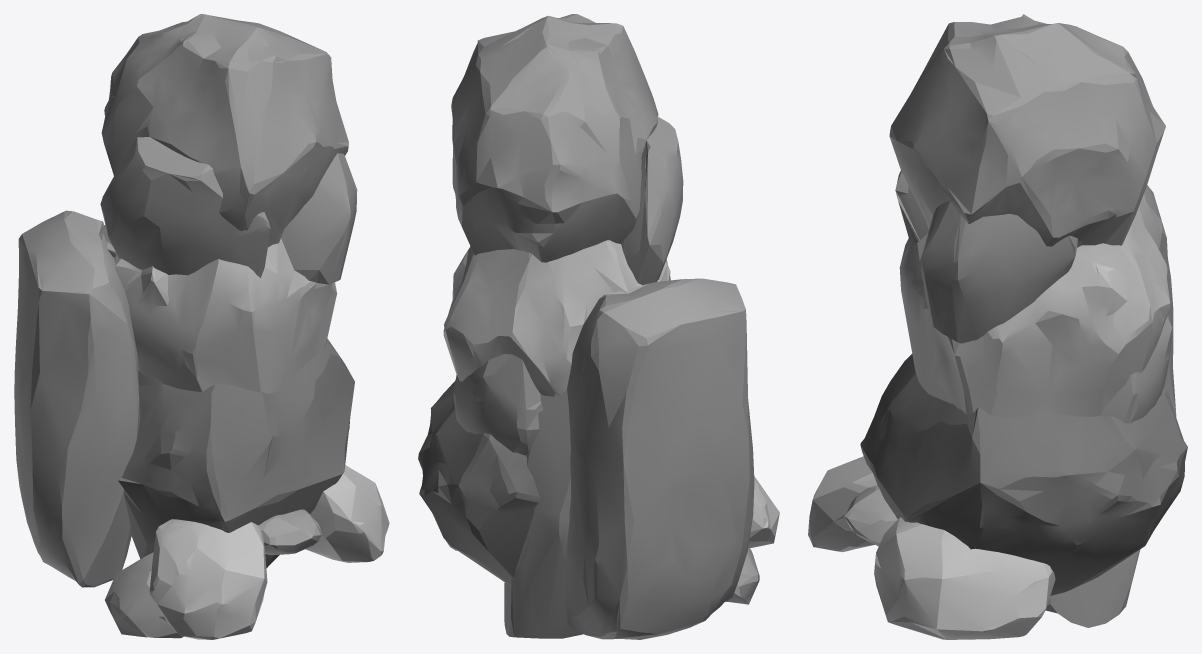
The model's file is Rock_021.glb.
3 views of the same model, side by side, from view 1: azimuth 30°, elevation 25°; view 2: azimuth 150°, elevation 25°; view 3: azimuth 270°, elevation 25° (orthographic). The views are drawn at different scales.
Visible parts, largest first — view 1: Rock_021; view 2: Rock_021; view 3: Rock_021.
Boxes of the visible parts, left/top/right/bottom form: Rock_021: left=14, top=14, right=389, bottom=639; Rock_021: left=418, top=14, right=779, bottom=639; Rock_021: left=808, top=14, right=1187, bottom=639.
Bounding box in the file's own units: 5.8 × 9.74 × 5.65.
Materials: 1 (1 with a texture image).
